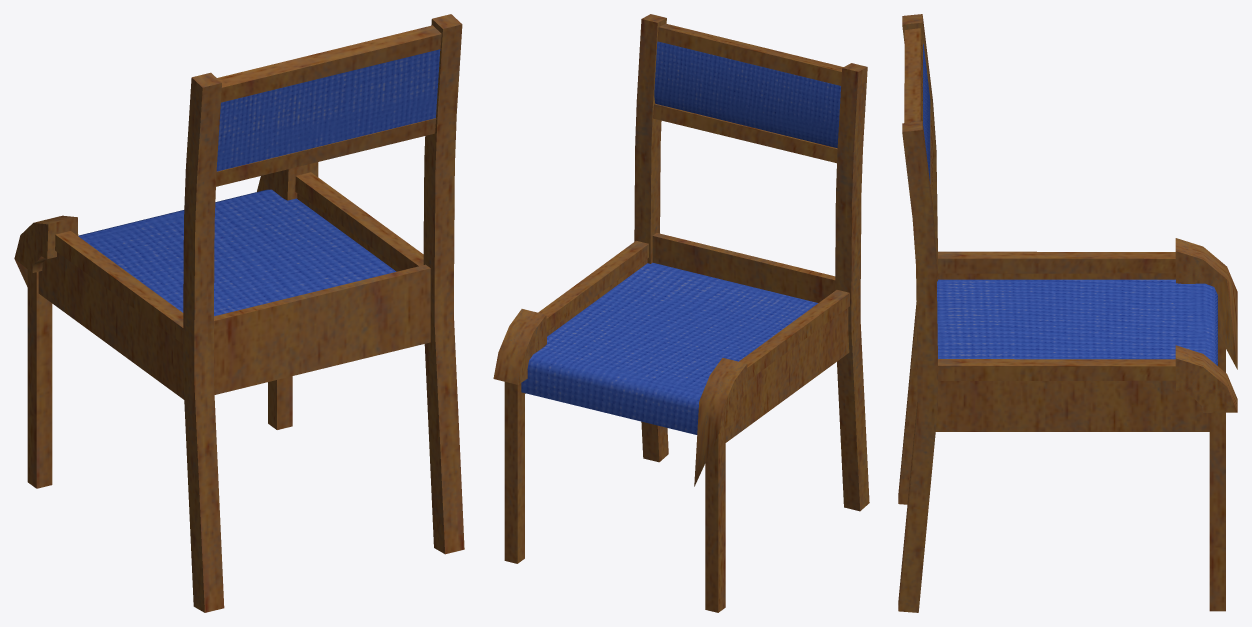
File: Chair3_2.fbx
3 views of the same model, side by side, from view 1: azimuth 30°, elevation 25°; view 2: azimuth 150°, elevation 25°; view 3: azimuth 270°, elevation 25° (orthographic). The views are drawn at different scales.
Visible parts, largest first — view 1: Chair3_2; view 2: Chair3_2; view 3: Chair3_2.
Part boxes in pixels (x1,y1,x2,y2): Chair3_2: [14, 14, 464, 612]; Chair3_2: [493, 14, 869, 612]; Chair3_2: [898, 14, 1237, 612].
Bounding box in the file's own units: 0.495 × 0.9179 × 0.5847.
